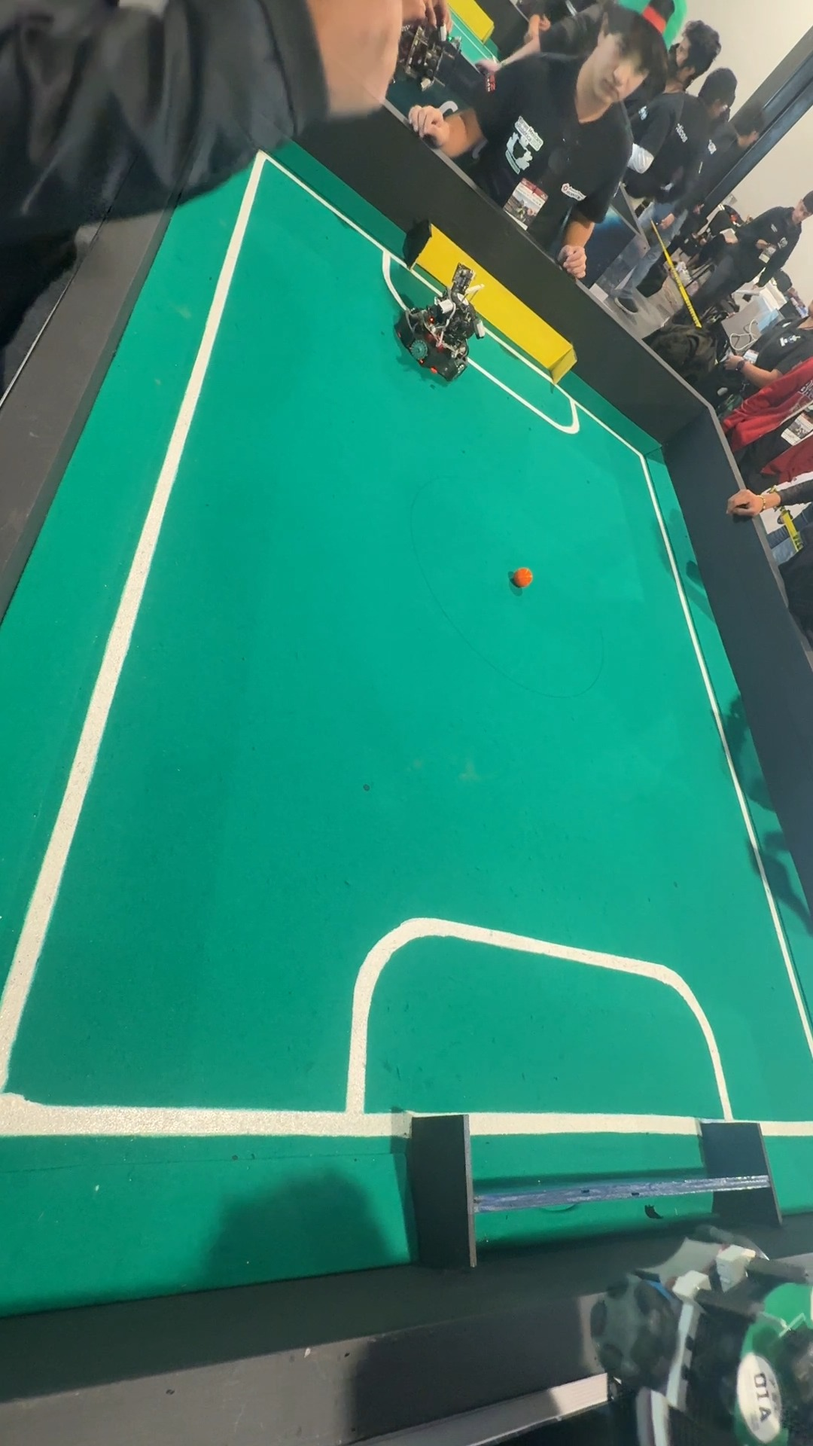Robot: (412, 255, 488, 396)
pelota: (512, 565, 534, 591)
